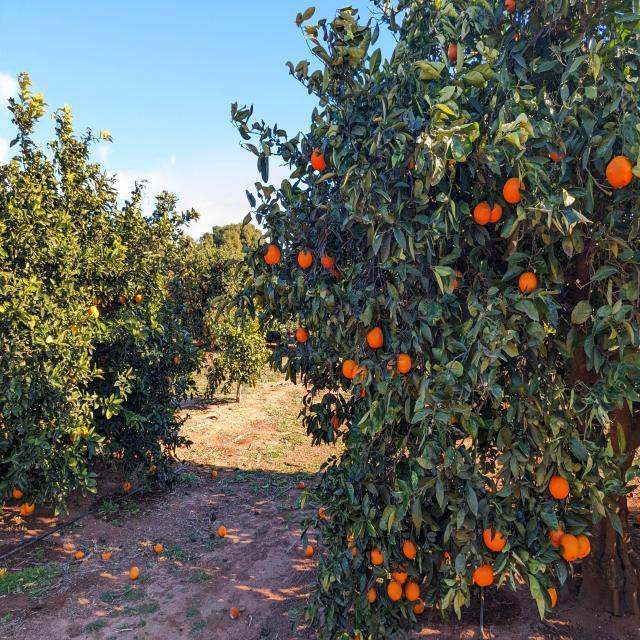Jeruk Sudah Matang: (606, 154, 632, 187), (482, 527, 506, 551), (560, 533, 579, 562), (504, 178, 525, 204), (548, 476, 570, 500), (474, 564, 495, 586), (474, 202, 492, 224), (366, 326, 384, 347), (520, 272, 537, 293), (310, 148, 326, 170), (489, 202, 504, 224), (264, 244, 280, 264), (578, 534, 591, 558), (550, 524, 564, 546), (397, 353, 412, 373), (352, 365, 368, 383), (342, 358, 356, 378), (388, 581, 401, 601), (298, 250, 312, 268), (406, 582, 420, 600), (403, 540, 416, 559), (393, 568, 408, 583), (90, 304, 104, 320), (322, 253, 335, 270), (371, 548, 383, 566), (504, 0, 518, 14), (365, 587, 377, 603), (69, 369, 80, 386), (414, 598, 426, 613), (447, 43, 457, 61), (296, 328, 308, 342), (348, 540, 358, 556), (11, 488, 25, 498), (136, 292, 144, 305), (118, 293, 127, 304), (173, 355, 180, 365), (319, 506, 325, 516)
